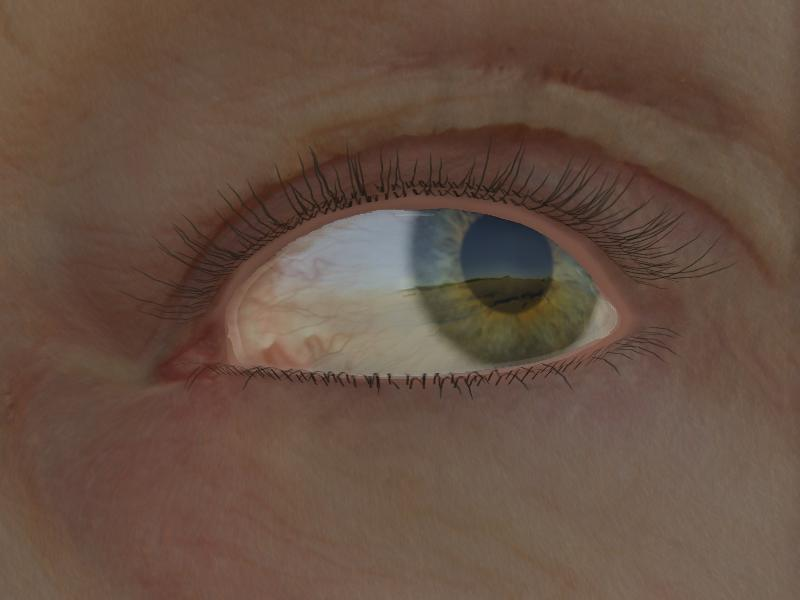eye: (408, 208, 593, 361)
